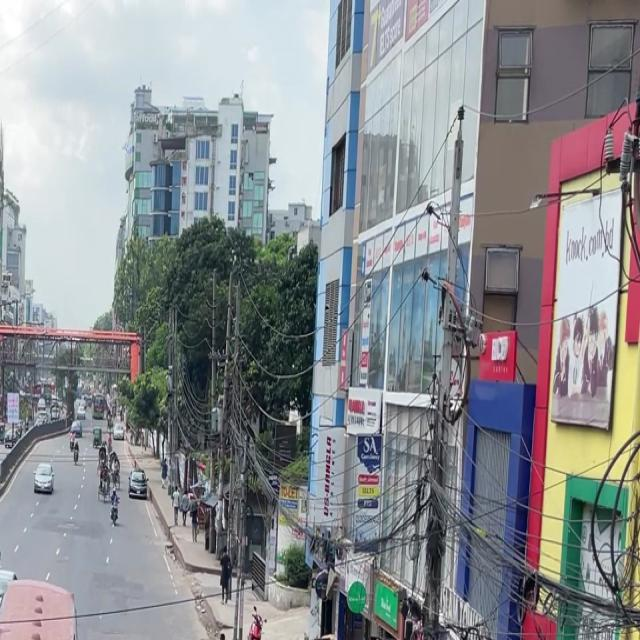bus: (0, 553, 107, 640)
car: (29, 454, 56, 500), (0, 558, 15, 638), (127, 464, 148, 504), (0, 518, 3, 586)
